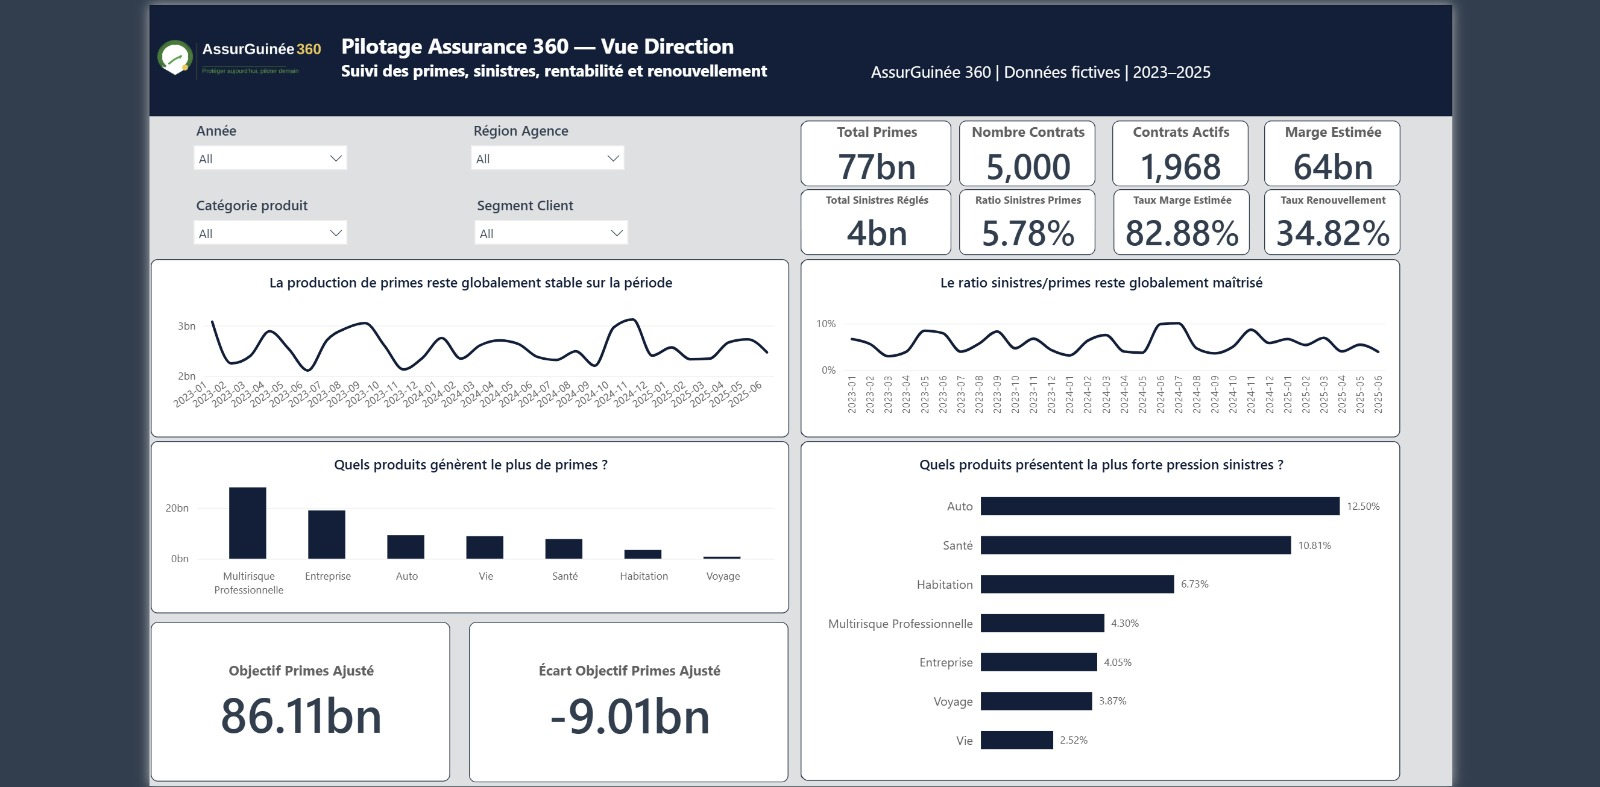

Layout of this report page (visuals, bound fields, positions):
{"tool":"powerbi","page":{"name":"Vue Direction","canvas":[1500,900],"ordinal":0},"visuals":[{"type":"shape","box":[0,0,1500,128.6],"z":0},{"type":"image","box":[2,1,201,128],"z":1000},{"type":"textbox","box":[221,30,499,69],"z":2000},{"type":"textbox","box":[831,64,449,55],"z":3000},{"type":"cardVisual","fields":{"Data":["Mesures.Total Primes"]},"box":[750,133.2,173,76],"z":4000},{"type":"cardVisual","fields":{"Data":["Mesures.Nombre Contrats"]},"box":[932.3,133.2,157,76],"z":5000},{"type":"cardVisual","fields":{"Data":["Mesures.Contrats Actifs"]},"box":[1107.7,133.2,157,76],"z":6000},{"type":"cardVisual","fields":{"Data":["Mesures.Marge Estimée"]},"box":[1283,133.2,157,76],"z":7000},{"type":"cardVisual","fields":{"Data":["Mesures.Ratio Sinistres Primes"]},"box":[932,213.2,157,76],"z":8000},{"type":"cardVisual","fields":{"Data":["Mesures.Taux Marge Estimée"]},"box":[1110,213.2,157,76],"z":9000},{"type":"cardVisual","fields":{"Data":["Mesures.Taux Renouvellement"]},"box":[1284,213.2,157,76],"z":10000},{"type":"cardVisual","fields":{"Data":["Mesures.Total Sinistres Réglés"]},"box":[750,213.2,173,76],"z":11000},{"type":"lineChart","title":"La production de primes reste globalement stable sur la période","fields":{"Category":["Calendrier.Année-Mois"],"Y":["Mesures.Total Primes"]},"box":[1.4,292.9,735.7,205.7],"z":12000},{"type":"lineChart","title":"Le ratio sinistres/primes reste globalement maîtrisé","fields":{"Category":["Calendrier.Année-Mois"],"Y":["Mesures.Ratio Sinistres Primes"]},"box":[750,292.9,690,205.7],"z":13000},{"type":"clusteredColumnChart","title":"Quels produits génèrent le plus de primes ?","fields":{"Category":["Produits.Categorie Produit"],"Y":["Mesures.Total Primes"]},"box":[1.8,503.2,735.7,198.6],"z":14000},{"type":"clusteredBarChart","title":"Quels produits présentent la plus forte pression sinistres ?","fields":{"Category":["Produits.Categorie Produit"],"Y":["Mesures.Ratio Sinistres Primes"]},"box":[750.4,503.2,690,391.4],"z":15000},{"type":"cardVisual","fields":{"Data":["Agences.Objectif Primes Ajusté"]},"box":[1.4,711.4,345.7,184.3],"z":17000},{"type":"cardVisual","fields":{"Data":["Agences.Écart Objectif Primes Ajusté"]},"box":[368.6,711.4,368.6,185.7],"z":18000},{"type":"slicer","fields":{"Values":["Objectifs.Annee"]},"box":[45.7,132.9,187.1,61.4],"z":19000},{"type":"slicer","fields":{"Values":["Agences.Region Agence"]},"box":[365.7,132.9,187.1,61.4],"z":20000},{"type":"slicer","fields":{"Values":["Produits.Categorie Produit"]},"box":[45.7,220,187.1,61.4],"z":21000},{"type":"slicer","fields":{"Values":["Clients.Segment Client"]},"box":[370,220,187.1,61.4],"z":22000}]}

Visuals, with their boxes on the page's 1500x900 design canvas (x1, y1, x2, y2). These are canvas units, not pixel positions in the 1600x787 screenshot, which may show the page scaled, cropped or inside an application window:
shape: BBox(0, 0, 1500, 129)
image: BBox(2, 1, 203, 129)
textbox: BBox(221, 30, 720, 99)
textbox: BBox(831, 64, 1280, 119)
cardVisual - Mesures.Total Primes: BBox(750, 133, 923, 209)
cardVisual - Mesures.Nombre Contrats: BBox(932, 133, 1089, 209)
cardVisual - Mesures.Contrats Actifs: BBox(1108, 133, 1265, 209)
cardVisual - Mesures.Marge Estimée: BBox(1283, 133, 1440, 209)
cardVisual - Mesures.Ratio Sinistres Primes: BBox(932, 213, 1089, 289)
cardVisual - Mesures.Taux Marge Estimée: BBox(1110, 213, 1267, 289)
cardVisual - Mesures.Taux Renouvellement: BBox(1284, 213, 1441, 289)
cardVisual - Mesures.Total Sinistres Réglés: BBox(750, 213, 923, 289)
"La production de primes reste globalement stable sur la période" lineChart: BBox(1, 293, 737, 499)
"Le ratio sinistres/primes reste globalement maîtrisé" lineChart: BBox(750, 293, 1440, 499)
"Quels produits génèrent le plus de primes ?" clusteredColumnChart: BBox(2, 503, 738, 702)
"Quels produits présentent la plus forte pression sinistres ?" clusteredBarChart: BBox(750, 503, 1440, 895)
cardVisual - Agences.Objectif Primes Ajusté: BBox(1, 711, 347, 896)
cardVisual - Agences.Écart Objectif Primes Ajusté: BBox(369, 711, 737, 897)
slicer - Objectifs.Annee: BBox(46, 133, 233, 194)
slicer - Agences.Region Agence: BBox(366, 133, 553, 194)
slicer - Produits.Categorie Produit: BBox(46, 220, 233, 281)
slicer - Clients.Segment Client: BBox(370, 220, 557, 281)
